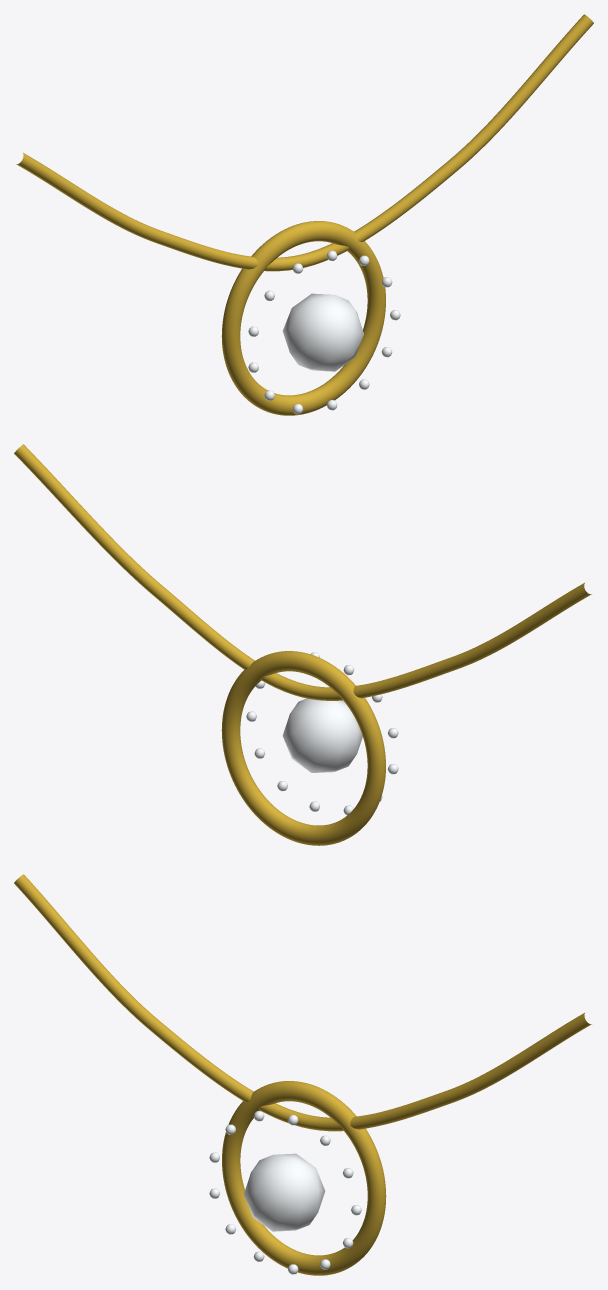
The model's file is saptapadi-wedding-band.glb.
3 renders of one model, top to bottom at view 1: azimuth 30°, elevation 25°; view 2: azimuth 150°, elevation 25°; view 3: azimuth 330°, elevation 25°, orthographic.
Visible parts, largest first — view 1: pendant_frame, chain, pendant_gem; view 2: pendant_frame, chain, pendant_gem; view 3: pendant_frame, chain, pendant_gem.
Boxes of the visible parts, box(x1,y1,x2,y2) form: pendant_frame: box(221, 221, 385, 415); chain: box(16, 14, 593, 271); pendant_gem: box(282, 293, 363, 371); pendant_frame: box(221, 651, 385, 845); chain: box(14, 444, 591, 700); pendant_gem: box(282, 698, 362, 772); pendant_frame: box(222, 1081, 386, 1275); chain: box(14, 874, 591, 1131); pendant_gem: box(244, 1153, 325, 1231).
Size of the model in its own units: 2.73 by 1.49 by 0.366.
